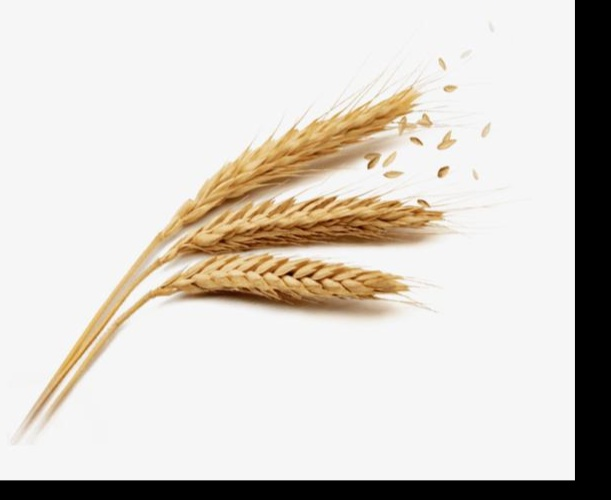wheat: (167, 84, 423, 219), (86, 249, 427, 337), (156, 187, 452, 258)
